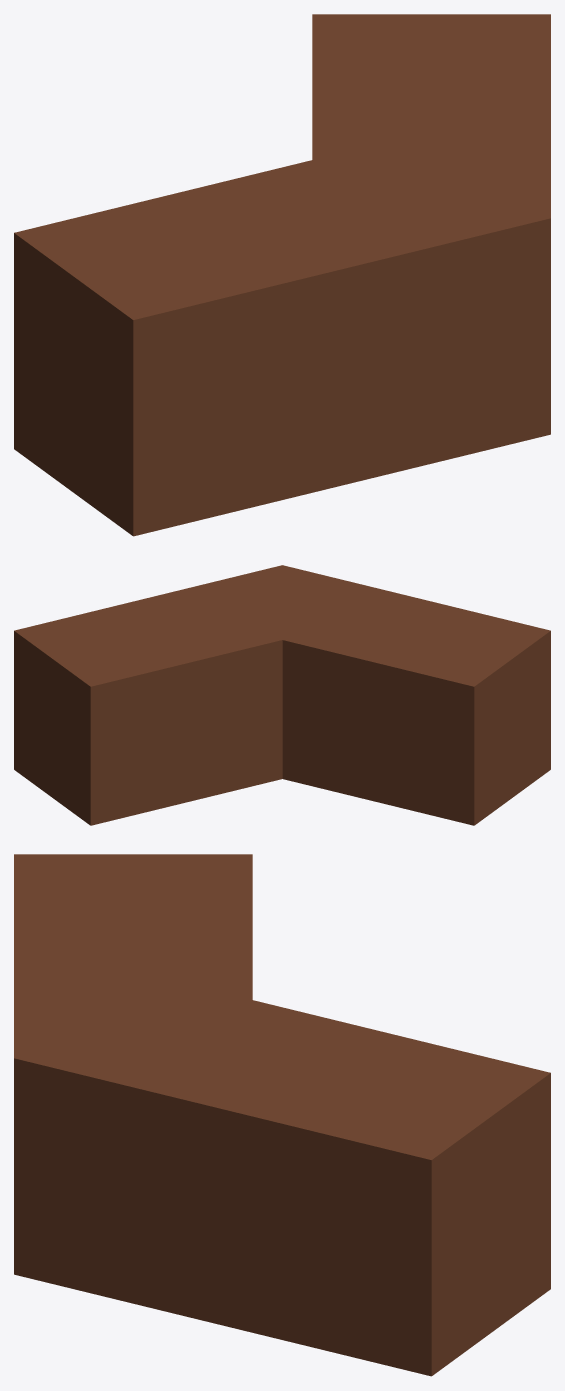
File: _wooden_wall_1.glb
The picture shows the model from 3 angles, top to bottom: view 1: azimuth 30°, elevation 25°; view 2: azimuth 150°, elevation 25°; view 3: azimuth 270°, elevation 25°; orthographic projection. The views are drawn at different scales.
Visible parts, largest first — view 1: WoodenWalfHalfCurvedFIll; view 2: WoodenWalfHalfCurvedFIll; view 3: WoodenWalfHalfCurvedFIll.
Boxes of the visible parts, box(x1,y1,x2,y2) form: WoodenWalfHalfCurvedFIll: box(14, 14, 550, 536); WoodenWalfHalfCurvedFIll: box(14, 565, 550, 825); WoodenWalfHalfCurvedFIll: box(14, 854, 550, 1376).
Bounding box in the file's own units: 1.52 × 0.5 × 1.12.
1 material, 1 textured.
